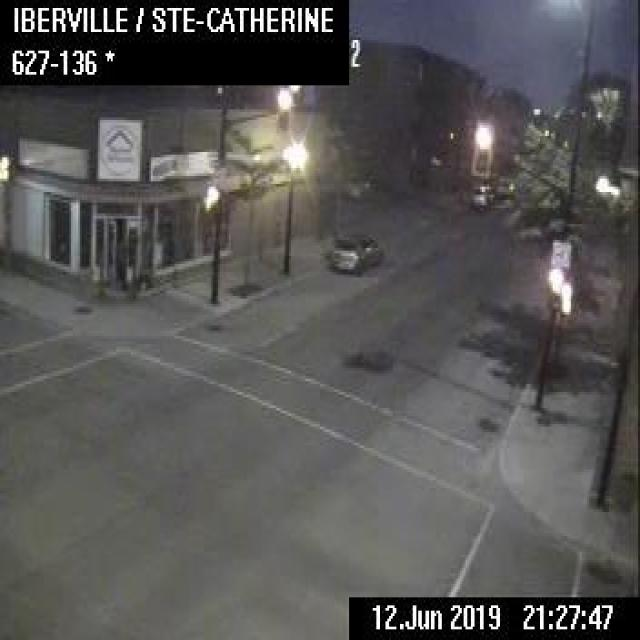vehicle: (331, 229, 384, 272), (468, 179, 497, 210), (494, 174, 517, 197)
